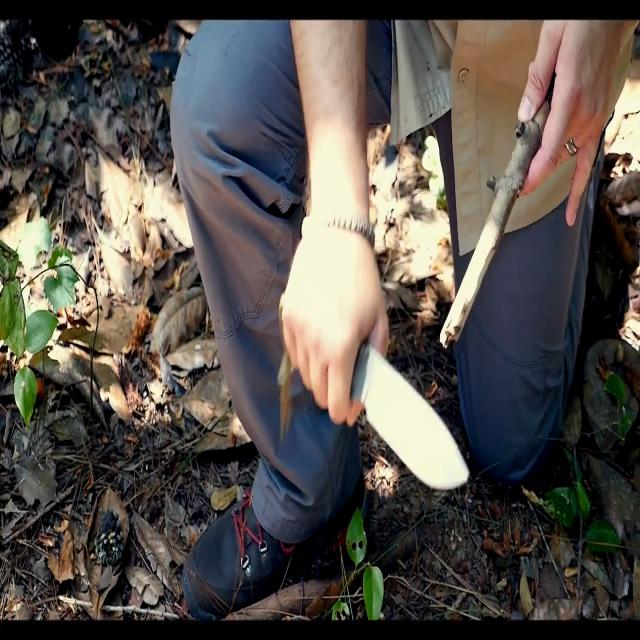knife: (353, 340, 473, 511)
